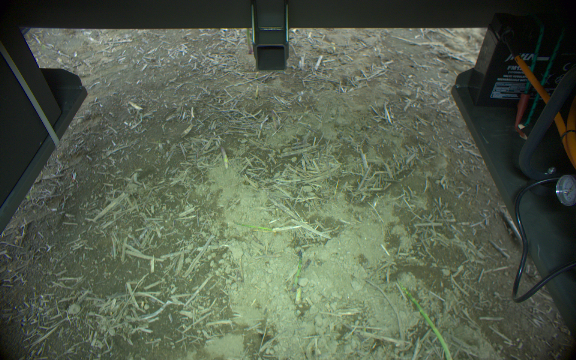aspa: (397, 283, 449, 360), (290, 245, 307, 291), (232, 217, 275, 234), (245, 27, 253, 55)
